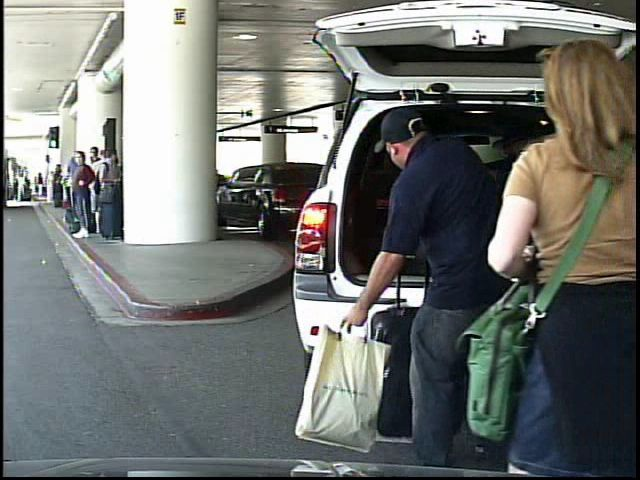person: (349, 104, 496, 475), (17, 174, 28, 205), (35, 172, 46, 199)
